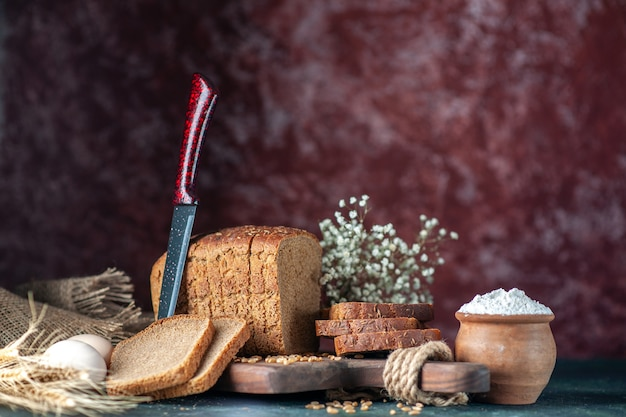knife: (157, 73, 219, 325)
